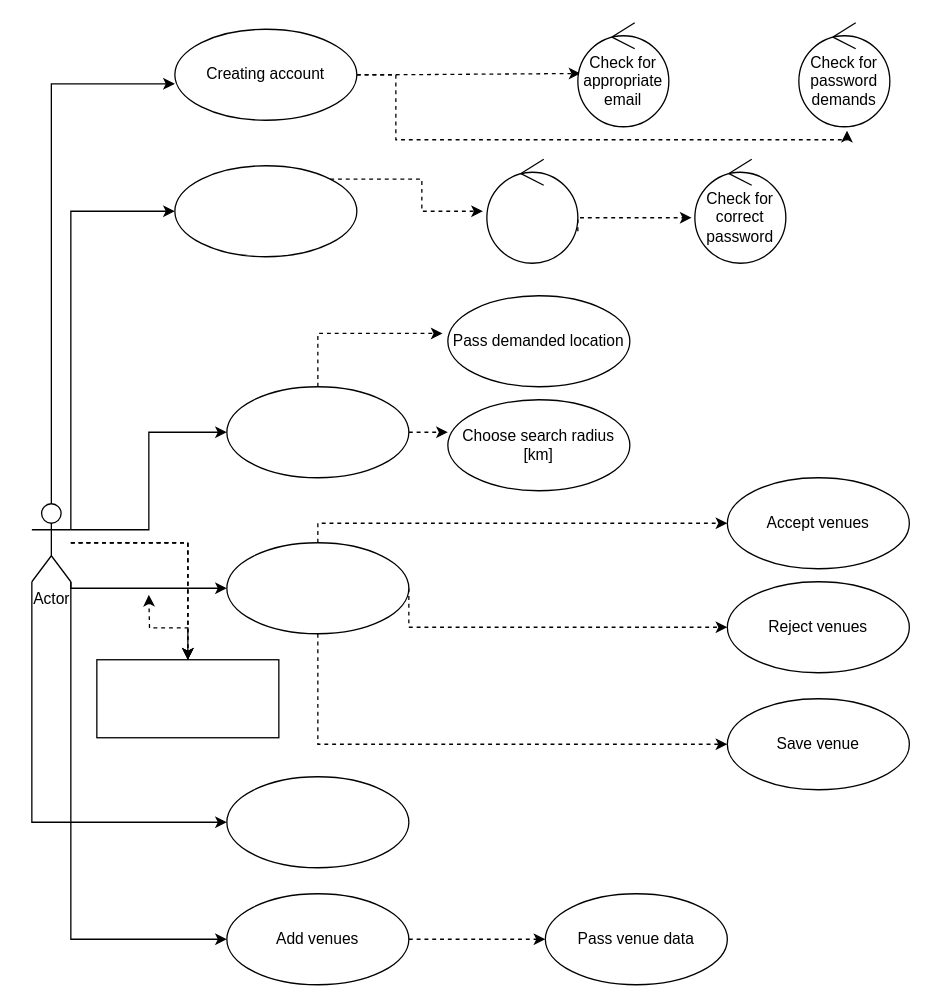
This 932x1007 diagram has some shape labels left out. The shapes that lost their labels are listed below. From the top down, each one's box as (x1, y1, x2, y2) in pixels, then its label:
(174, 164, 357, 257): Sign in
(486, 158, 578, 263): Check for correct email
(226, 385, 409, 478): Choose operating area
(226, 541, 409, 634): Browse venues list
(96, 658, 279, 738): Condition If place is picked
(226, 775, 409, 868): Show saved venues
